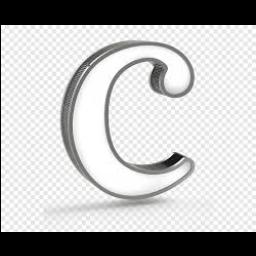c: (57, 32, 201, 212)
